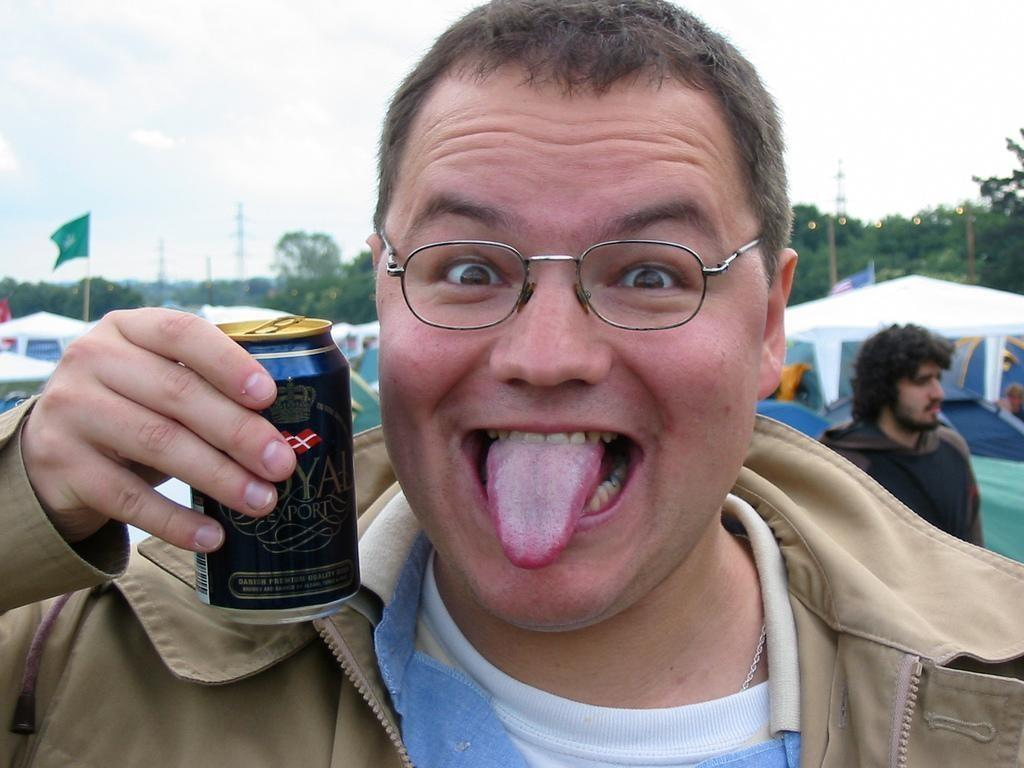tin can: (198, 312, 365, 633)
